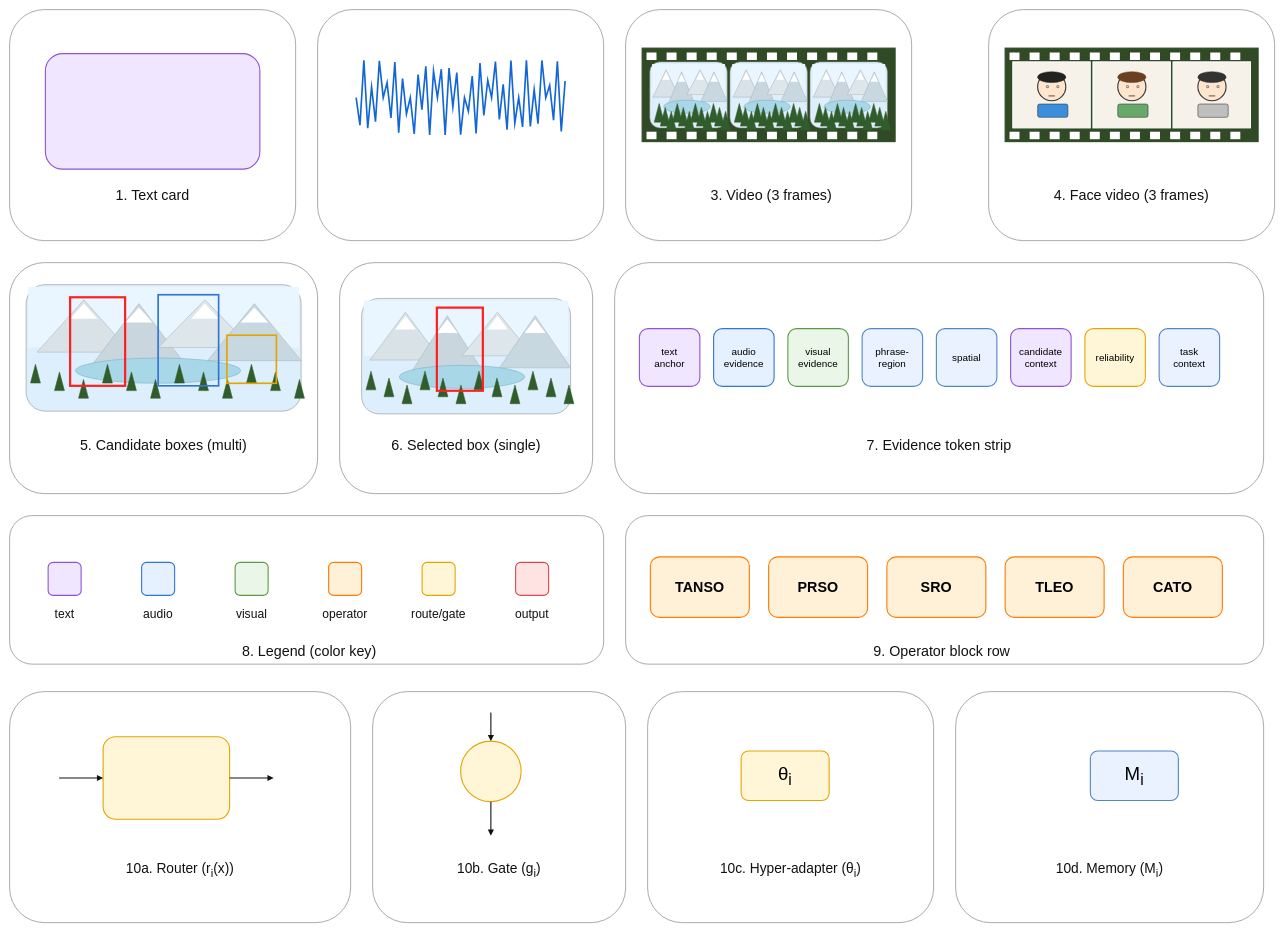
This 1285x933 diagram has some shape labels left out. The box of each missing label's shape, as (x1, y1, x2, y2) in pixels:
2. Audio waveform: (317, 9, 604, 241)
Evidence Router r i (x): (102, 736, 230, 820)
g i: (460, 740, 521, 802)
Query text What is shown in the image?: (45, 53, 260, 169)
